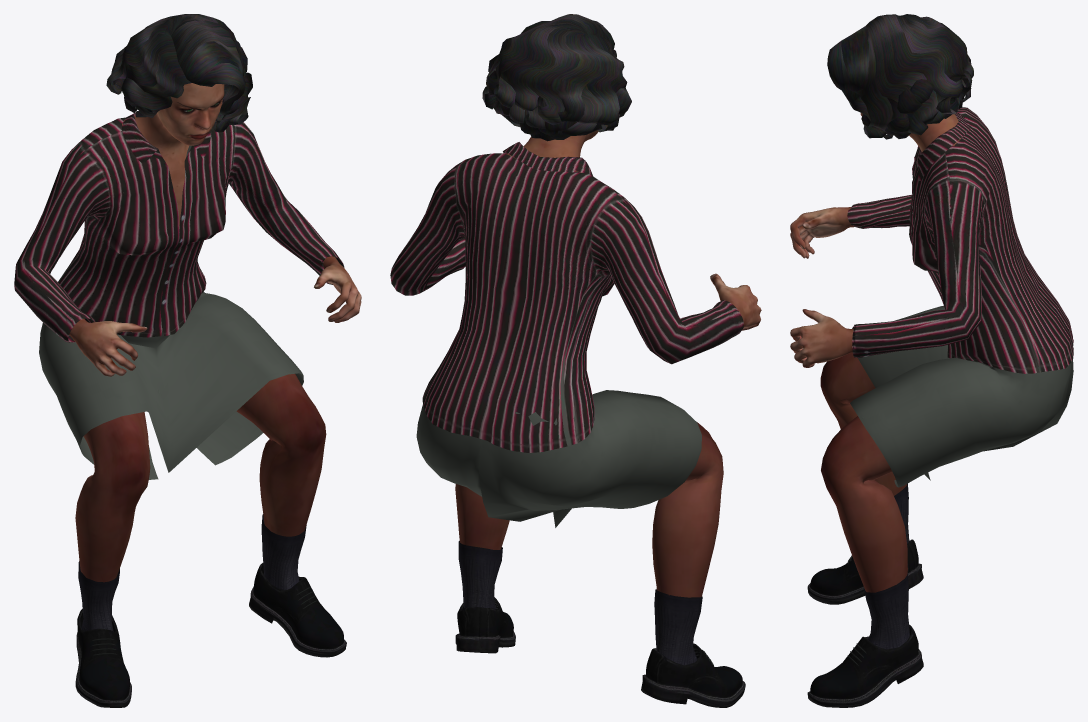
The model's file is donna-03.glb.
The picture shows the model from 3 angles, left to right: view 1: azimuth 30°, elevation 25°; view 2: azimuth 150°, elevation 25°; view 3: azimuth 270°, elevation 25°; orthographic projection. The views are drawn at different scales.
Parts seen in each view (by area): view 1: Human.female_elegantsuit01, Human, Human.shoes03, Human.elvs_wavy_bob; view 2: Human.female_elegantsuit01, Human.elvs_wavy_bob, Human, Human.shoes03; view 3: Human.female_elegantsuit01, Human, Human.elvs_wavy_bob, Human.shoes03.
Boxes of the visible parts, x1,y1,x2,y2 form: Human.female_elegantsuit01: (14,112,344,479); Human: (69,83,361,582); Human.shoes03: (75,514,346,707); Human.elvs_wavy_bob: (106,14,252,132); Human.female_elegantsuit01: (390,142,743,527); Human.elvs_wavy_bob: (482,14,631,141); Human: (455,130,761,597); Human.shoes03: (455,541,745,707); Human.female_elegantsuit01: (847,107,1073,487); Human: (790,113,960,592); Human.elvs_wavy_bob: (827,14,973,139); Human.shoes03: (807,483,923,707).
Bounding box in the file's own units: 0.6299 × 1.34 × 0.5452.
Materials: 12 (12 with a texture image).
